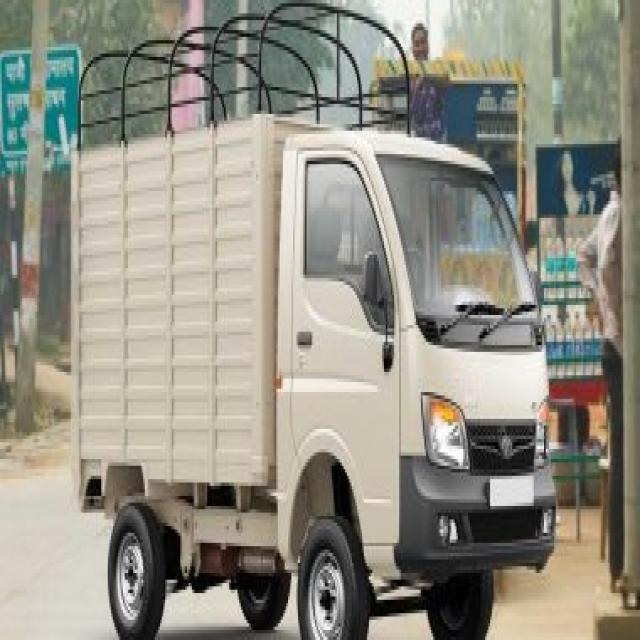truck: (72, 0, 556, 637)
